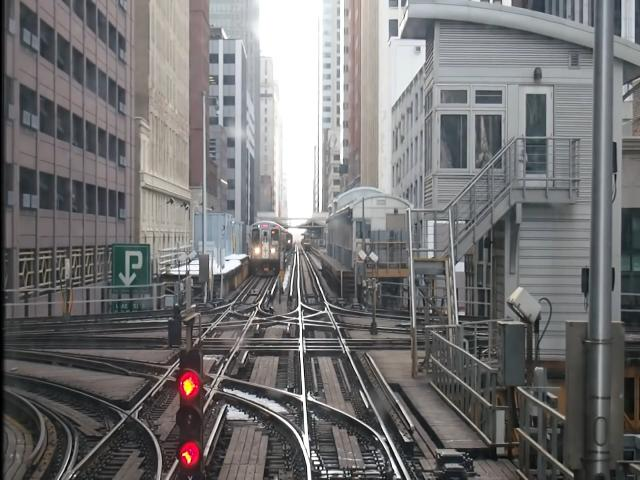signal light: (177, 348, 209, 480)
